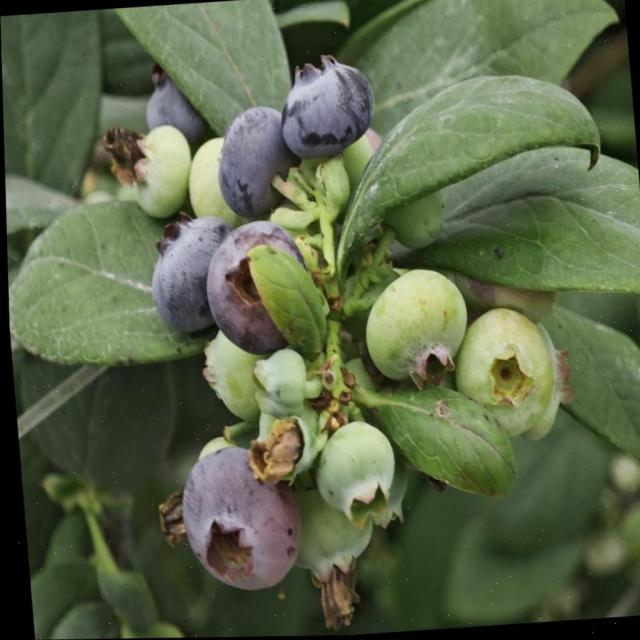RipeBlueBerry: (172, 441, 306, 599), (274, 50, 380, 163), (142, 212, 234, 340), (210, 102, 292, 220)
UnripeBlueBerry: (446, 302, 560, 440), (357, 264, 471, 394)
